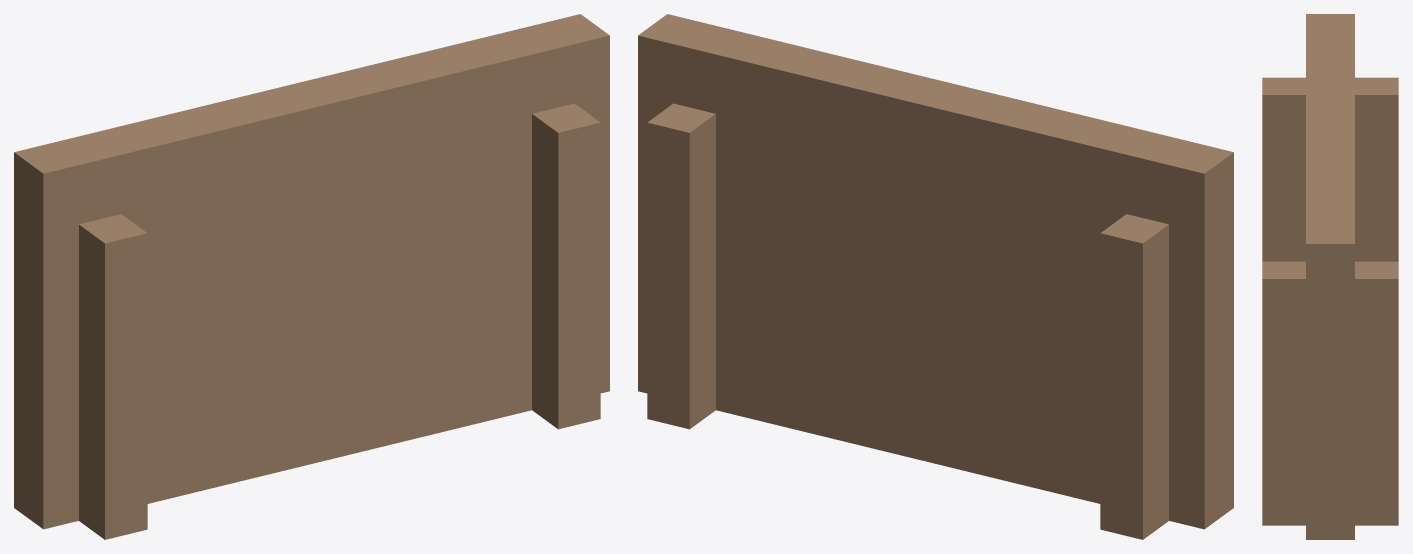
File: cover_wood_barricade.glb
3 views of the same model, side by side, from view 1: azimuth 30°, elevation 25°; view 2: azimuth 150°, elevation 25°; view 3: azimuth 270°, elevation 25° (orthographic). The views are drawn at different scales.
Parts seen in each view (by area): view 1: cover_wood_barricade_Mesh; view 2: cover_wood_barricade_Mesh; view 3: cover_wood_barricade_Mesh.
Boxes of the visible parts, box(x1,y1,x2,y2) form: cover_wood_barricade_Mesh: box(14, 14, 609, 539); cover_wood_barricade_Mesh: box(638, 14, 1233, 539); cover_wood_barricade_Mesh: box(1262, 14, 1398, 539).
Size of the model in its own units: 2 by 1.2 by 0.5.
